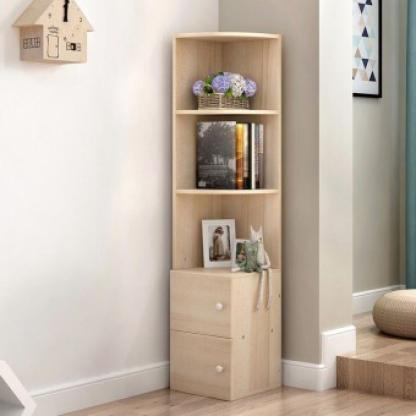Rak: (171, 31, 281, 277)
